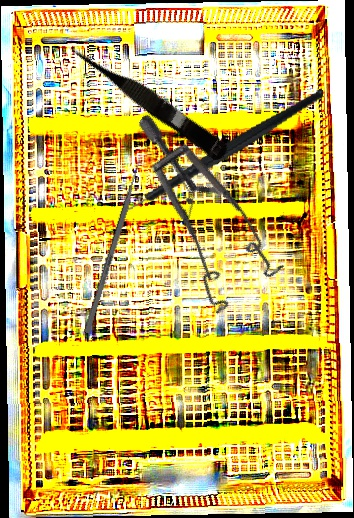Chopper: (99, 88, 342, 233)
Micro Scissor: (62, 34, 234, 164)
Pusher: (83, 151, 146, 334)
Speculum: (74, 111, 316, 333)
